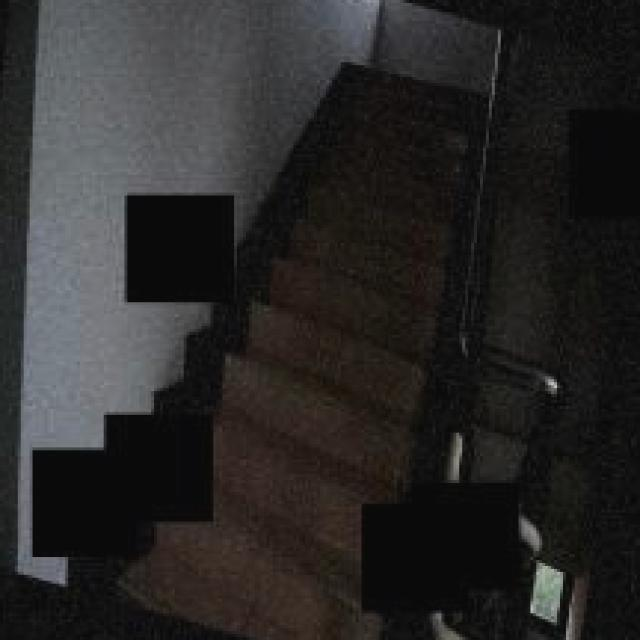upstair: (241, 268, 351, 582)
